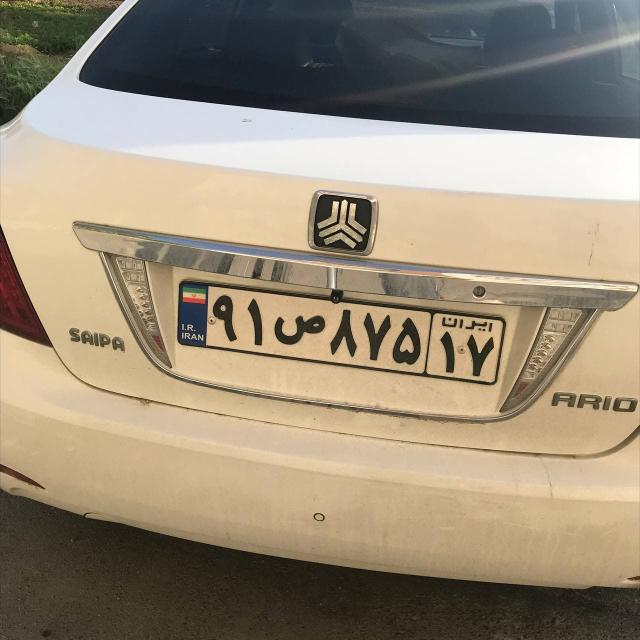Plates: (173, 282, 504, 382)
